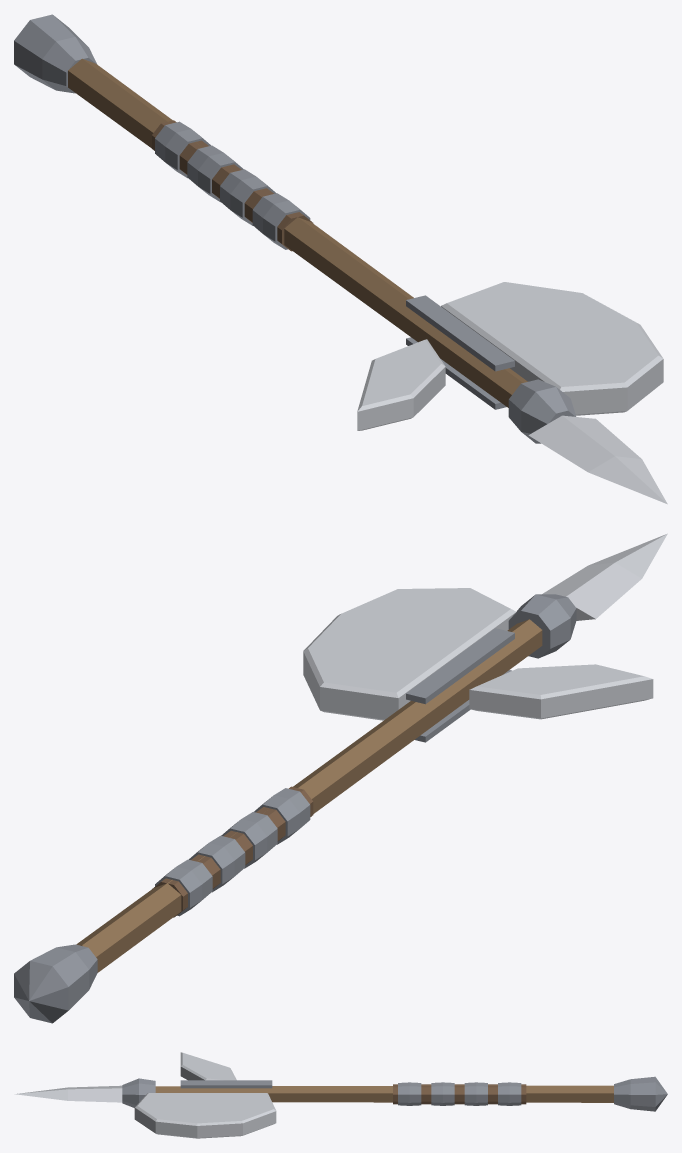
Rendered from halberd.glb.
3 views of the same model, one above another, from view 1: azimuth 30°, elevation 25°; view 2: azimuth 150°, elevation 25°; view 3: azimuth 270°, elevation 25° (orthographic). The views are drawn at different scales.
Parts seen in each view (by area): view 1: halberd; view 2: halberd; view 3: halberd.
Boxes of the visible parts, left/top/right/bottom form: halberd: left=14, top=14, right=667, bottom=504; halberd: left=14, top=533, right=667, bottom=1023; halberd: left=14, top=1052, right=667, bottom=1138.
Size of the model in its own units: 0.425 by 0.0776 by 1.57.
